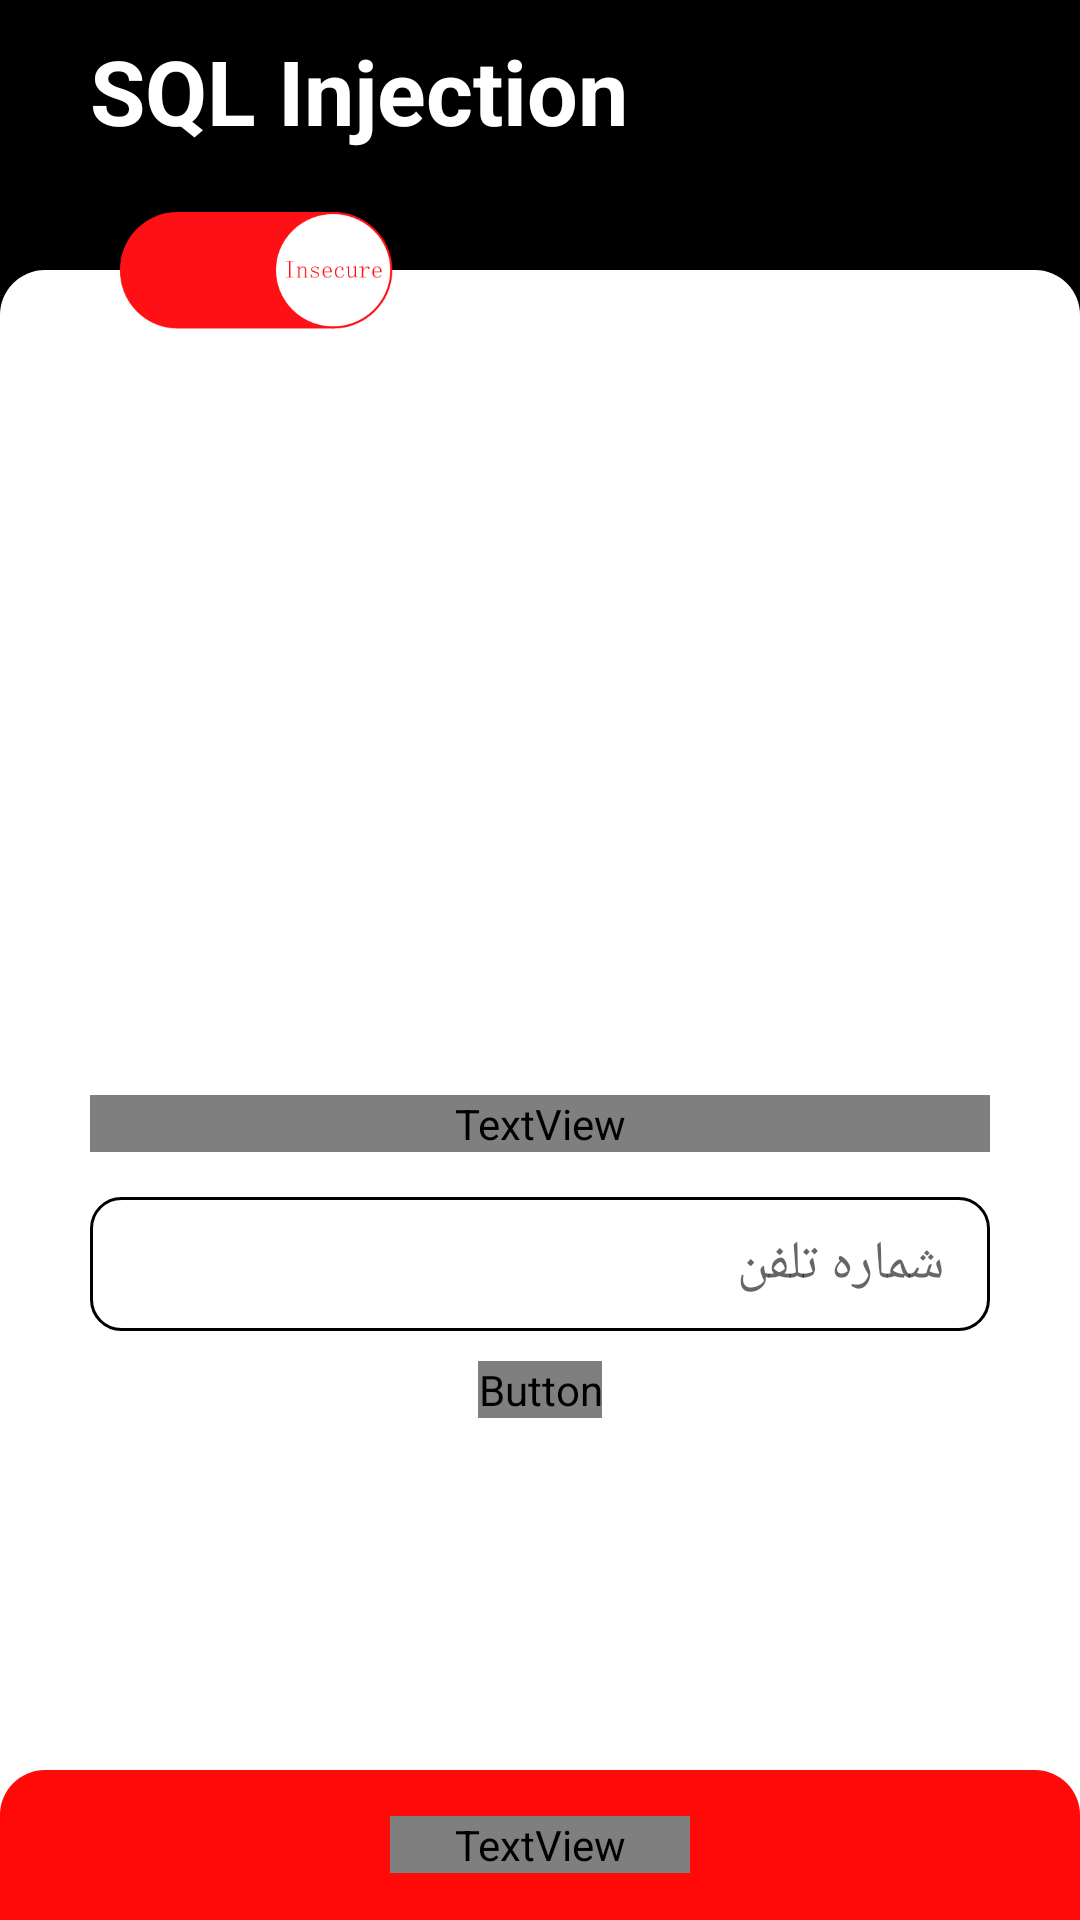

Named icons in this screenshot (1080×1920) and their centers, [x,y]:
toggle switch: [256,270]
